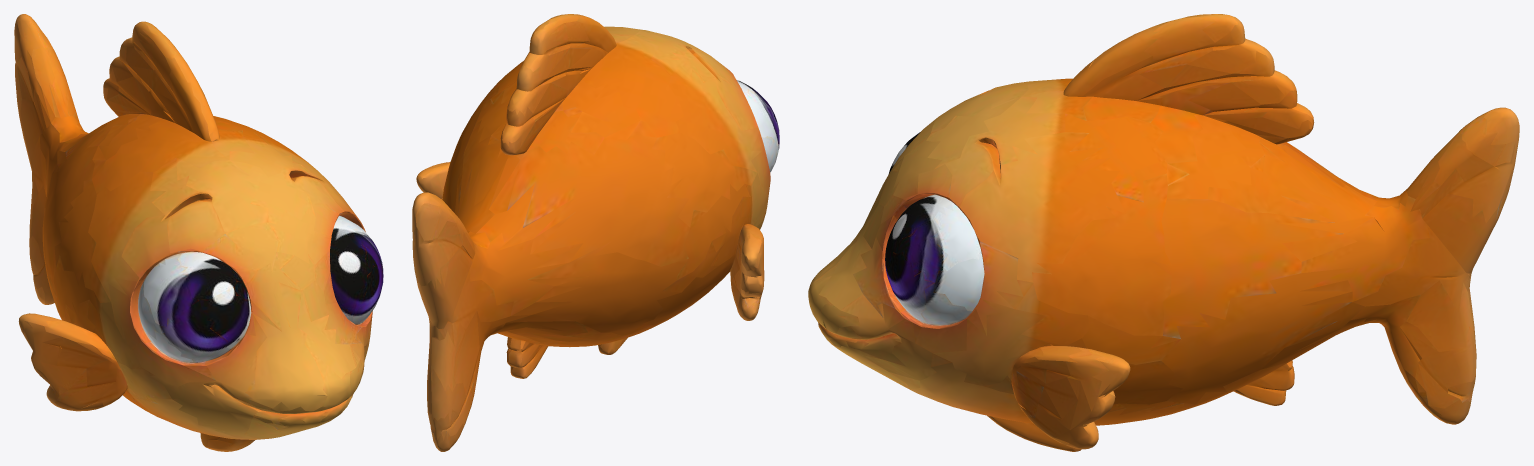
The model's file is fish.glb.
The picture shows the model from 3 angles, left to right: view 1: azimuth 30°, elevation 25°; view 2: azimuth 150°, elevation 25°; view 3: azimuth 270°, elevation 25°; orthographic projection. The views are drawn at different scales.
Size of the model in its own units: 1.21 by 1.28 by 1.9.
Materials: 1 (1 with a texture image).
